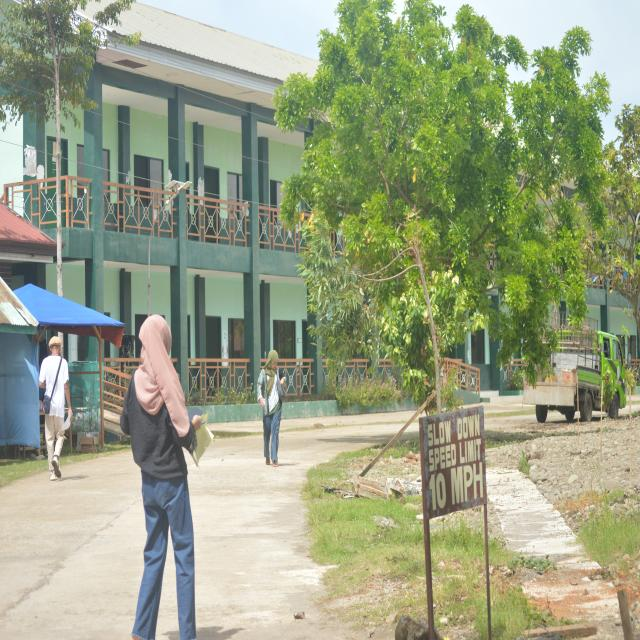person: (121, 315, 200, 639), (39, 336, 72, 480), (257, 351, 281, 466)
